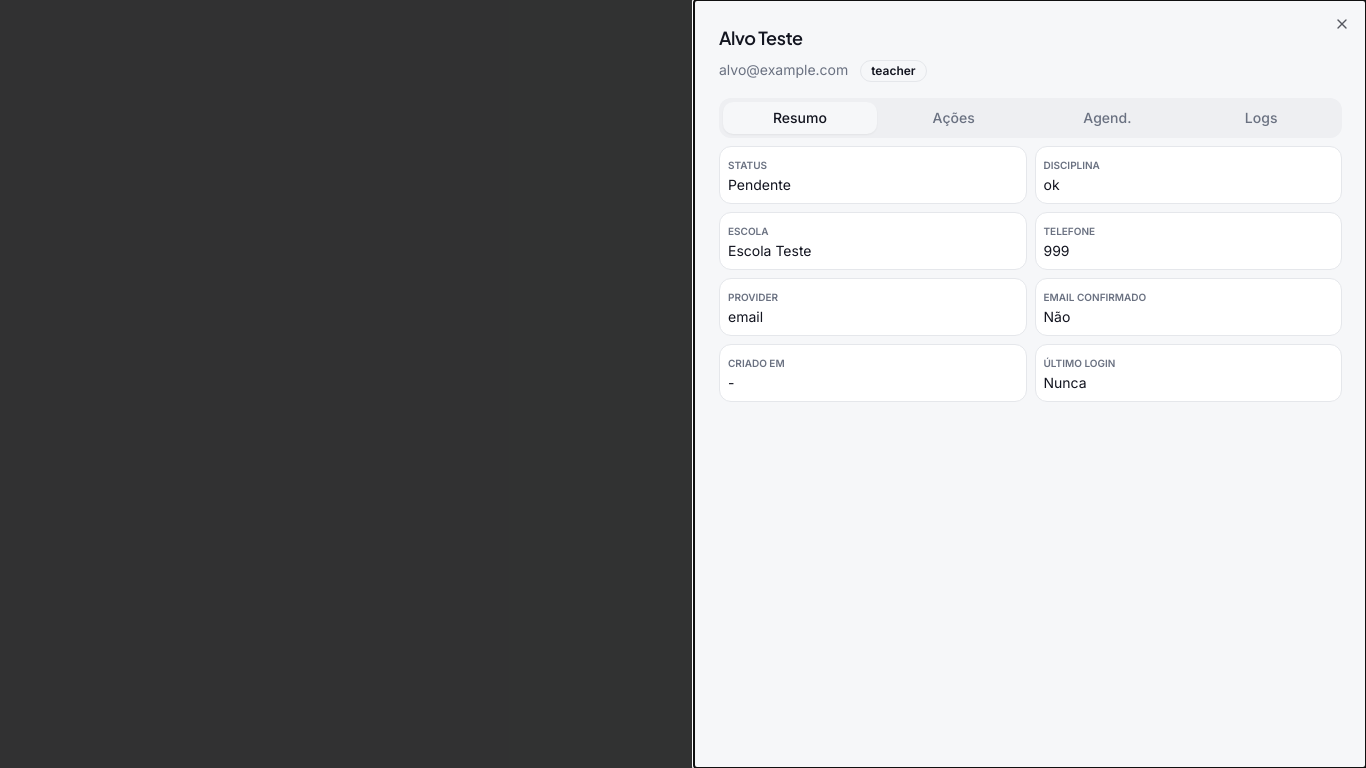
Test case: UserDetailDrawer — fluxo auditado (motivo obrigatório) › Bloquear chama admin_set_user_blocked com _blocked=true e _reason
Later steps or results of the test are not shown.
Expected: the text "alvo@example.com teacher" is shown, [719,60,927,82]
Click the tab "Ações".
click(954, 118)  # box [877,102,1031,134]
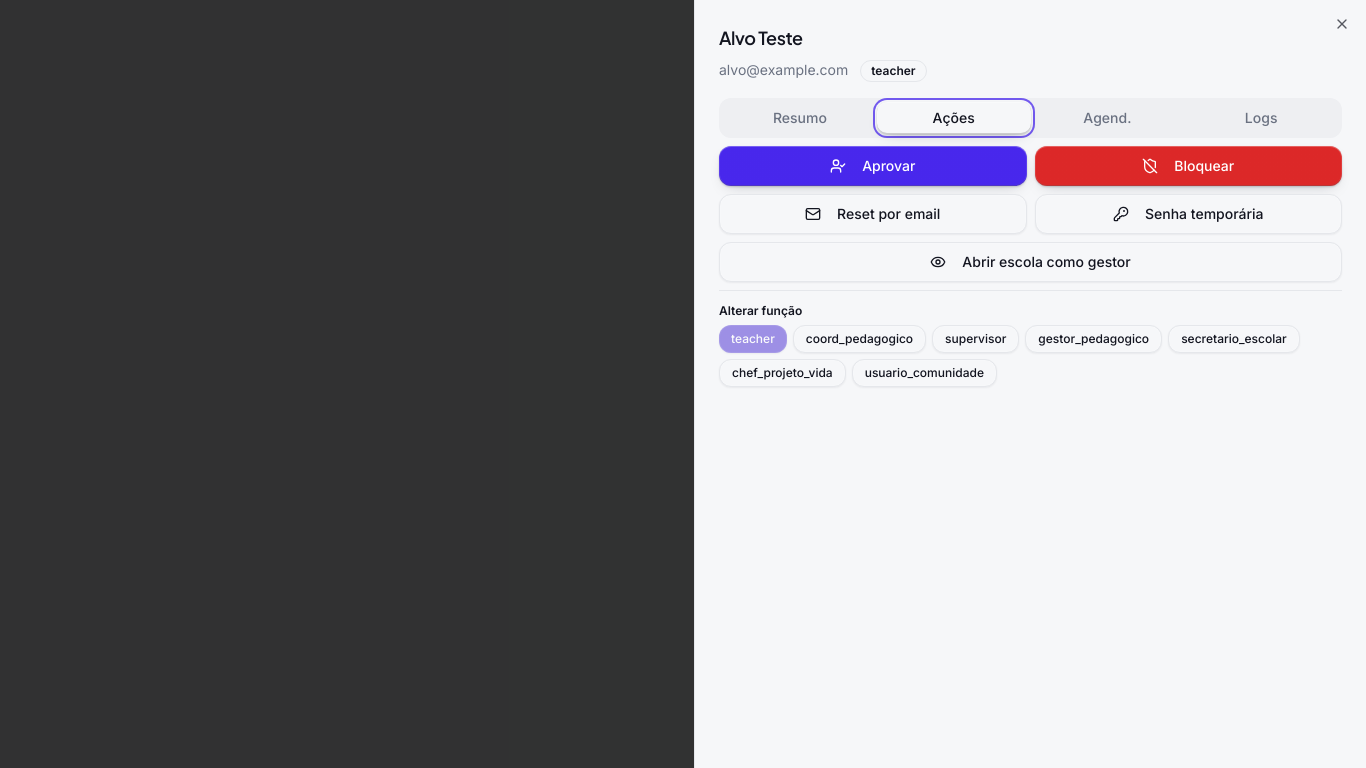
Result: the panel named "Ações" is shown at [719,146,1342,387]
Click the button "Bloquear".
click(1188, 166)  # box [1034,146,1342,186]
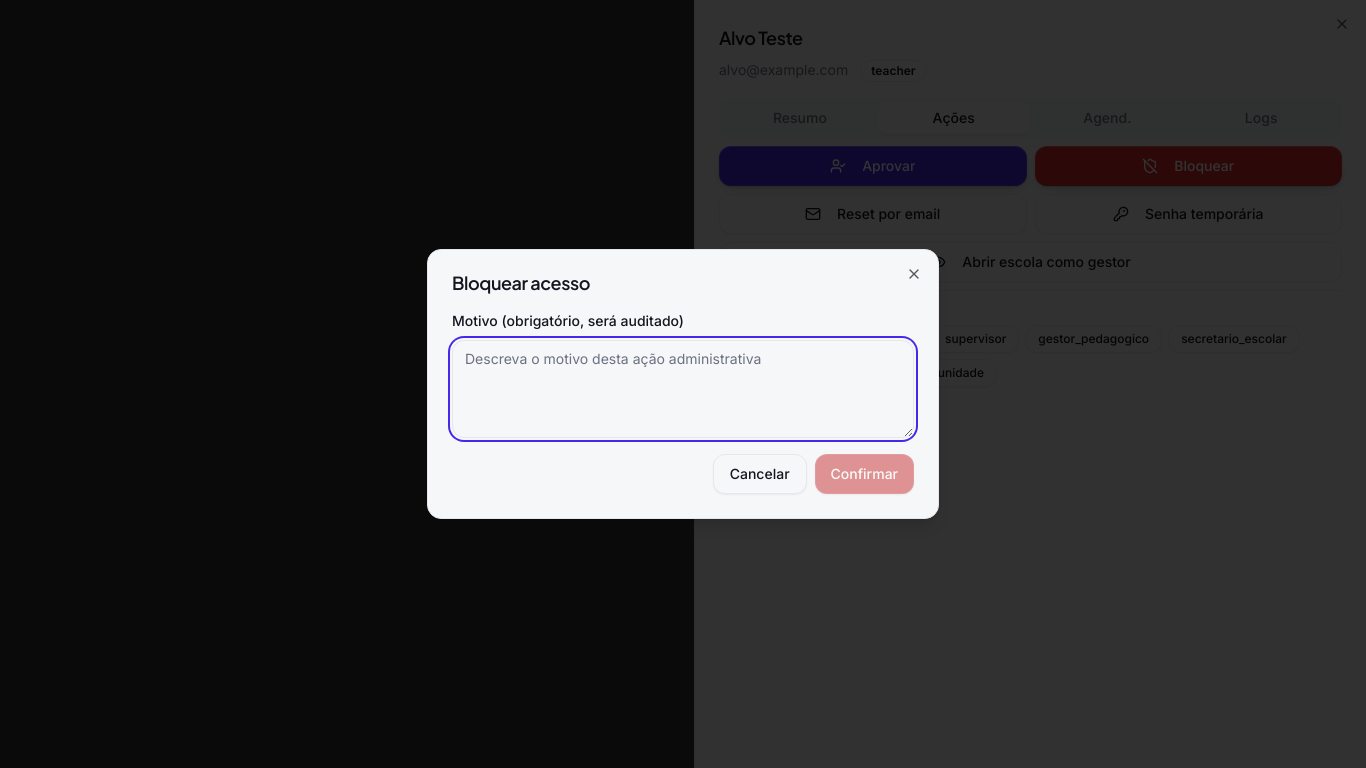
Type "Conduta inadequada relatada pela escola" into the text box with placeholder "Descreva o motivo desta ação administrativa".
click(683, 389); type("Conduta inadequada relatada pela escola")  # box [452,340,914,438]
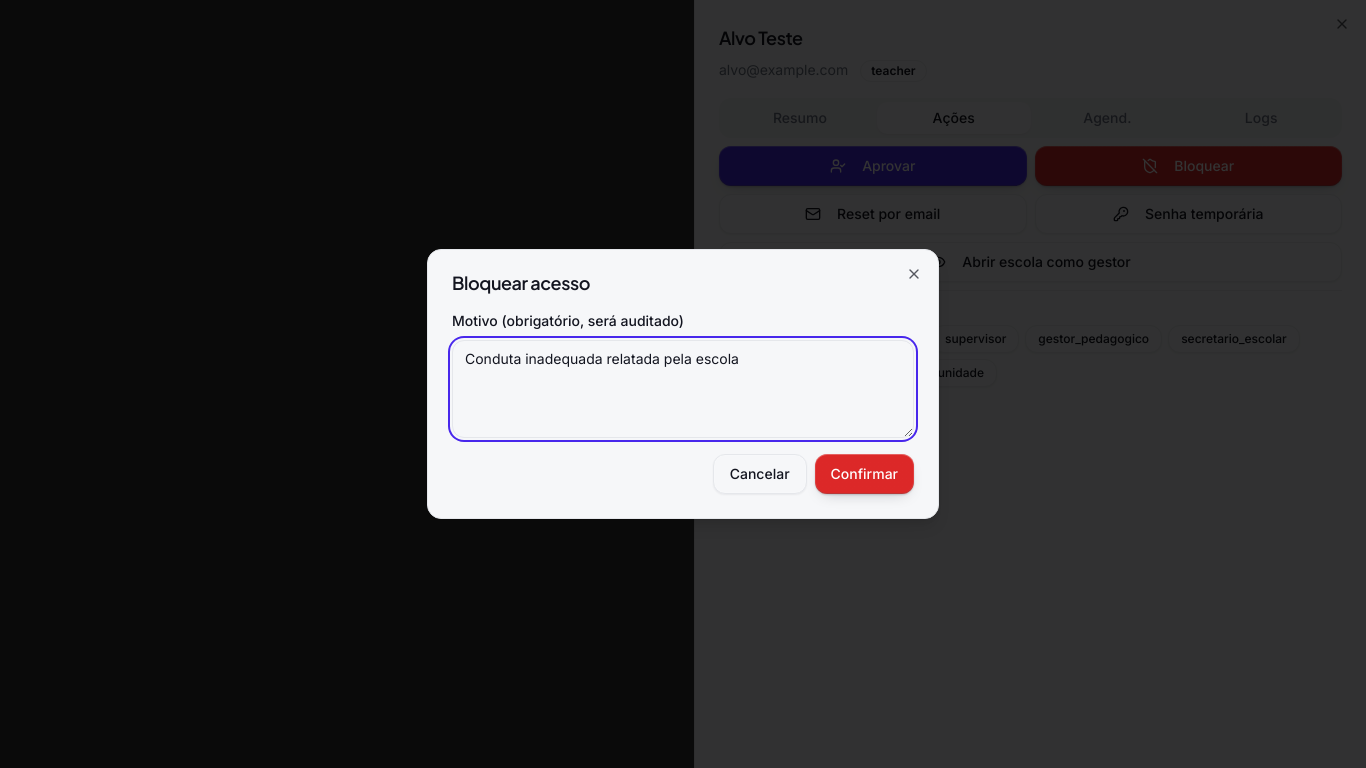
Result: the button "Confirmar" is enabled at [815,454,914,494]
